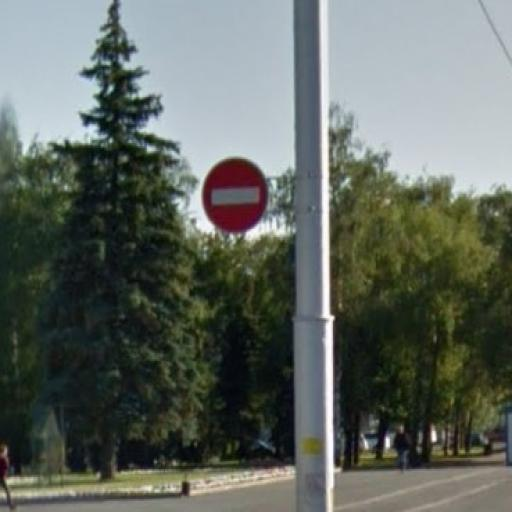traffic_sign: (202, 155, 272, 238)
